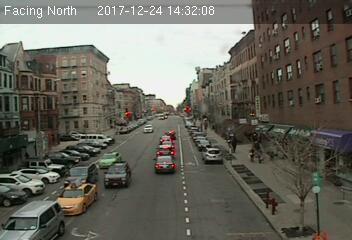car: (1, 199, 65, 240), (54, 181, 98, 217), (63, 163, 99, 188), (104, 161, 131, 186), (154, 155, 174, 173), (98, 152, 120, 168), (203, 147, 224, 162), (156, 145, 175, 156), (143, 125, 153, 133)
